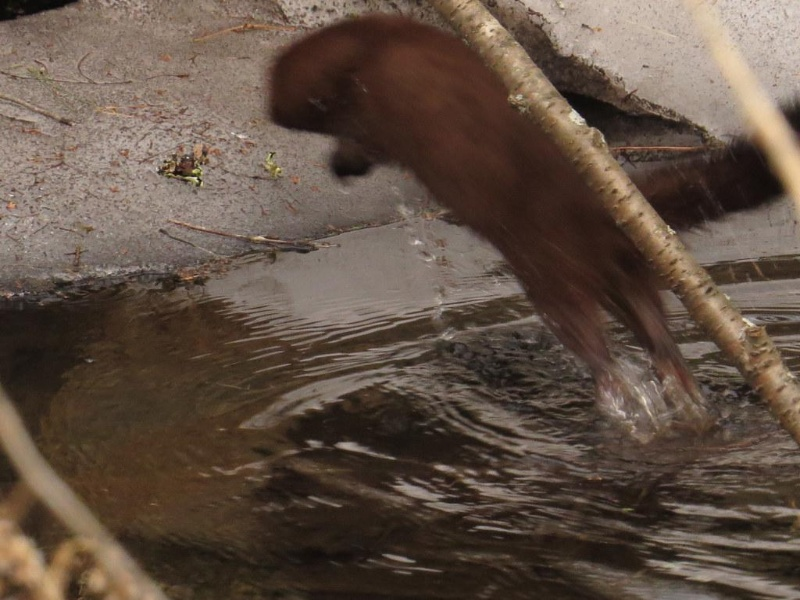minkish: (257, 18, 702, 437)
